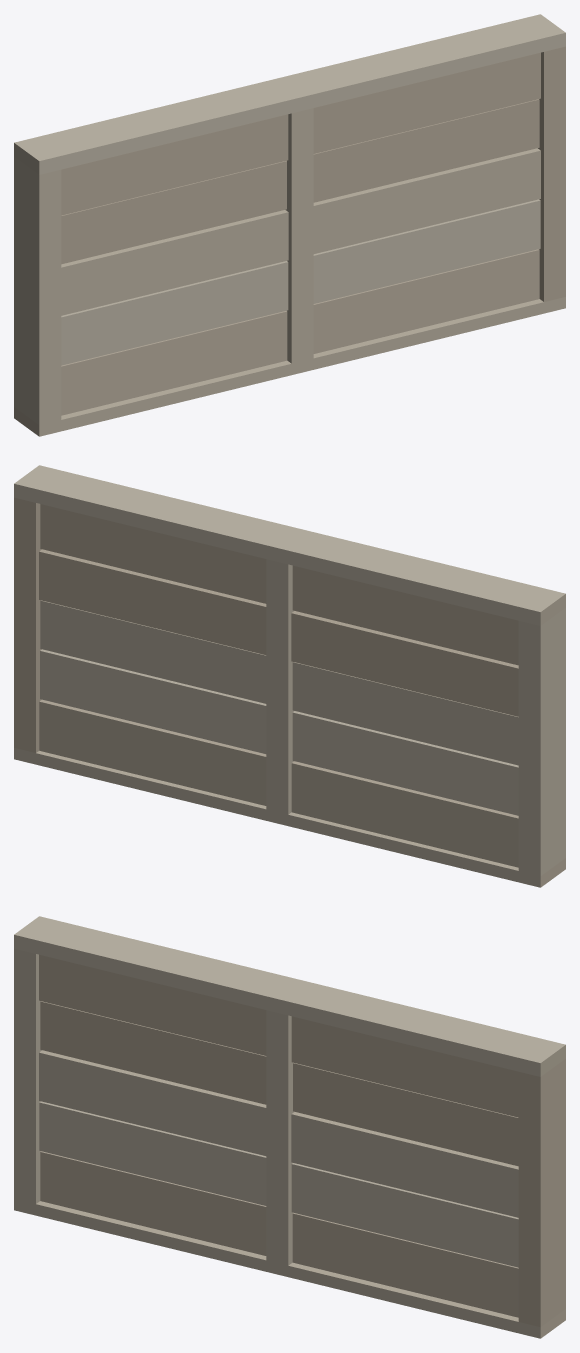
The model's file is Wall12.glb.
3 views of the same model, one above another, from view 1: azimuth 30°, elevation 25°; view 2: azimuth 150°, elevation 25°; view 3: azimuth 330°, elevation 25° (orthographic).
Visible parts, largest first — view 1: Wood; view 2: Wood; view 3: Wood.
Boxes of the visible parts, x1,y1,x2,y2 form: Wood: (14, 14, 565, 436); Wood: (14, 465, 565, 887); Wood: (14, 916, 565, 1338).
Size of what is drawn, in the model's own units: 12 by 6 by 1.
